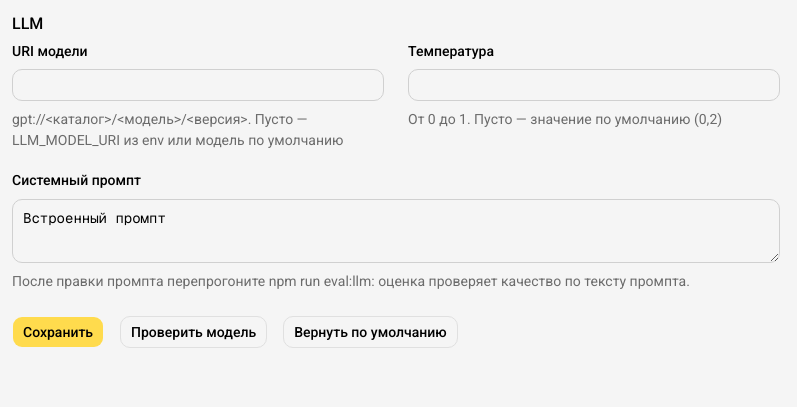
it: LlmSettingsForm › «Проверить модель» — успех показывает «доступна» и не сохраняет
The image size is (797, 407).
Type "gpt://b1g/aliceai-llm/latest" into the field labelled "URI модели" at point(198, 85), box [12,69,384,101]
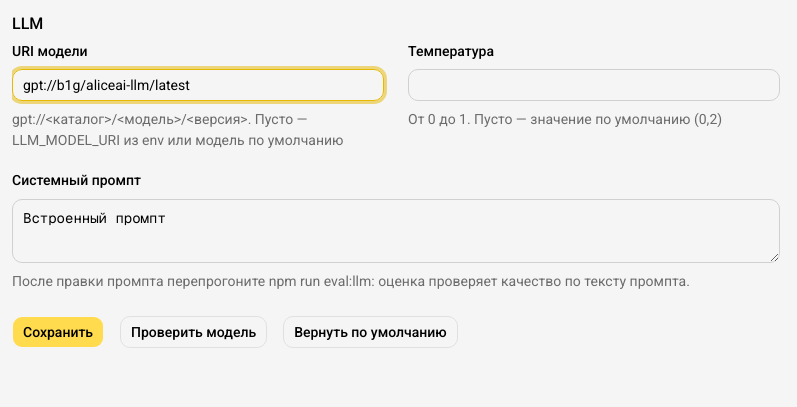
Click the button "Проверить модель" at point(194, 332), box [120,316,267,348]
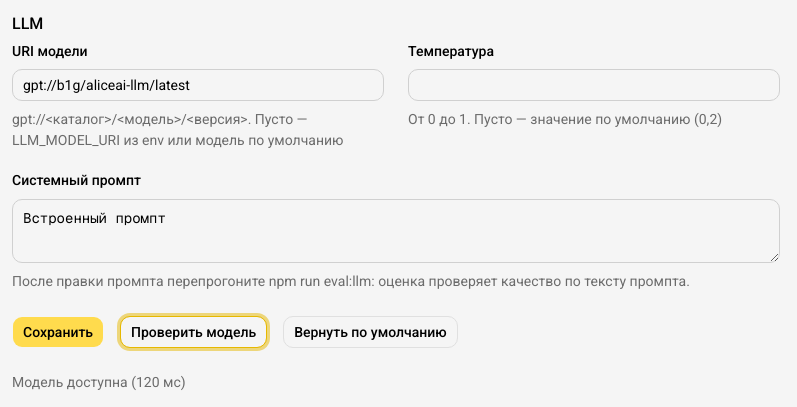
Check: the text "Модель доступна (120 мс)" is shown, box [12,374,186,390]
